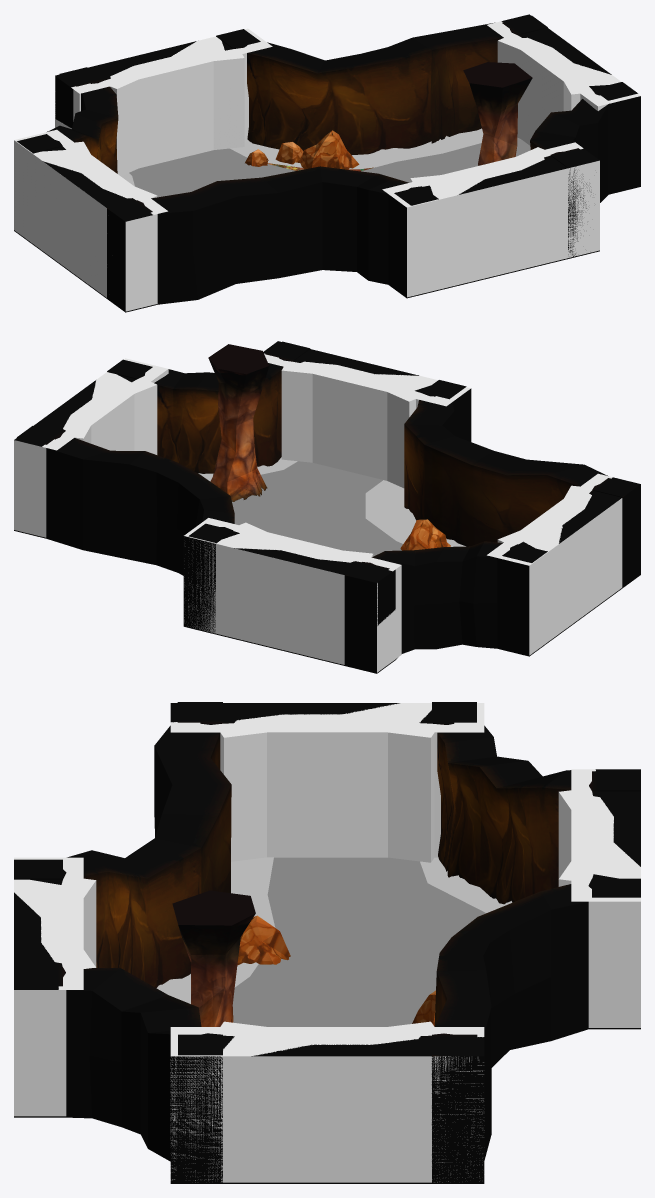
The model's file is Dungeon_062_RoadX_001.fbx.
3 views of the same model, one above another, from view 1: azimuth 30°, elevation 25°; view 2: azimuth 150°, elevation 25°; view 3: azimuth 270°, elevation 25° (orthographic). The views are drawn at different scales.
Visible parts, largest first — view 1: Dun_062_RoadX_001_wall, DoorWay_NavMask (3) (×4), DoorWay_NavMask (1) (×4), Dun_062_Door_002 (×4), Dun_062_RoadX_001_Nav, DoorWay_NavMask (2) (×4), Dungeon_062_Object_04_Pillar, DoorWay_NavMask (4) (×3), Dun_062_RoadX_001_shadow, Dun_062_Object_100; view 2: Dun_062_RoadX_001_wall, DoorWay_NavMask (3) (×4), DoorWay_NavMask (1) (×3), Dun_062_RoadX_001_Nav, Dun_062_Door_002 (×4), Dungeon_062_Object_04_Pillar, DoorWay_NavMask (4) (×3), DoorWay_NavMask (2) (×2), Dun_062_RoadX_001_shadow, Dungeon_062_Object_03_Rock; view 3: Dun_062_RoadX_001_wall, DoorWay_NavMask (3) (×4), Dun_062_RoadX_001_Nav, Dun_062_Door_002 (×4), DoorWay_NavMask (1) (×3), DoorWay_NavMask (4) (×4), DoorWay_NavMask (2) (×3), Dungeon_062_Object_04_Pillar, Dun_062_RoadX_001_shadow, Dungeon_062_Object_03_Rock.
Boxes of the visible parts, x1,y1,x2,y2 form: Dun_062_RoadX_001_wall: [14, 14, 640, 312]; DoorWay_NavMask (3) (×4): [14, 21, 640, 311]; DoorWay_NavMask (1) (×4): [32, 35, 619, 297]; Dun_062_Door_002 (×4): [17, 15, 637, 298]; Dun_062_RoadX_001_Nav: [129, 137, 530, 197]; DoorWay_NavMask (2) (×4): [62, 48, 592, 186]; Dungeon_062_Object_04_Pillar: [463, 62, 532, 165]; DoorWay_NavMask (4) (×3): [100, 34, 553, 176]; Dun_062_RoadX_001_shadow: [121, 128, 483, 186]; Dun_062_Object_100: [275, 130, 359, 169]; Dun_062_RoadX_001_wall: [14, 341, 640, 673]; DoorWay_NavMask (3) (×4): [14, 353, 622, 672]; DoorWay_NavMask (1) (×3): [64, 372, 622, 664]; Dun_062_RoadX_001_Nav: [232, 461, 402, 556]; Dun_062_Door_002 (×4): [17, 341, 637, 665]; Dungeon_062_Object_04_Pillar: [208, 344, 268, 501]; DoorWay_NavMask (4) (×3): [61, 361, 373, 561]; DoorWay_NavMask (2) (×2): [105, 377, 425, 488]; Dun_062_RoadX_001_shadow: [198, 457, 465, 546]; Dungeon_062_Object_03_Rock: [400, 519, 450, 550]; Dun_062_RoadX_001_wall: [14, 703, 640, 1183]; DoorWay_NavMask (3) (×4): [14, 703, 640, 1182]; Dun_062_RoadX_001_Nav: [232, 857, 485, 1026]; Dun_062_Door_002 (×4): [14, 702, 640, 1183]; DoorWay_NavMask (1) (×3): [32, 791, 613, 1182]; DoorWay_NavMask (4) (×4): [43, 715, 611, 1043]; DoorWay_NavMask (2) (×3): [56, 715, 439, 1043]; Dungeon_062_Object_04_Pillar: [172, 890, 255, 1026]; Dun_062_RoadX_001_shadow: [156, 857, 512, 1003]; Dungeon_062_Object_03_Rock: [237, 915, 290, 965].
Size of the model in its own units: 12 by 2.96 by 9.
